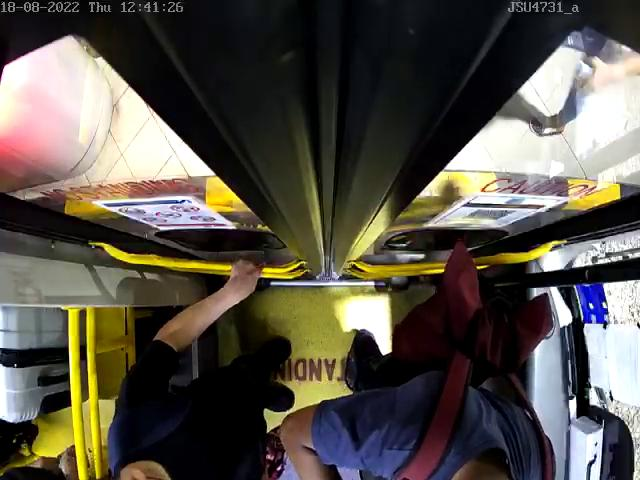close: (0, 0, 640, 199)
